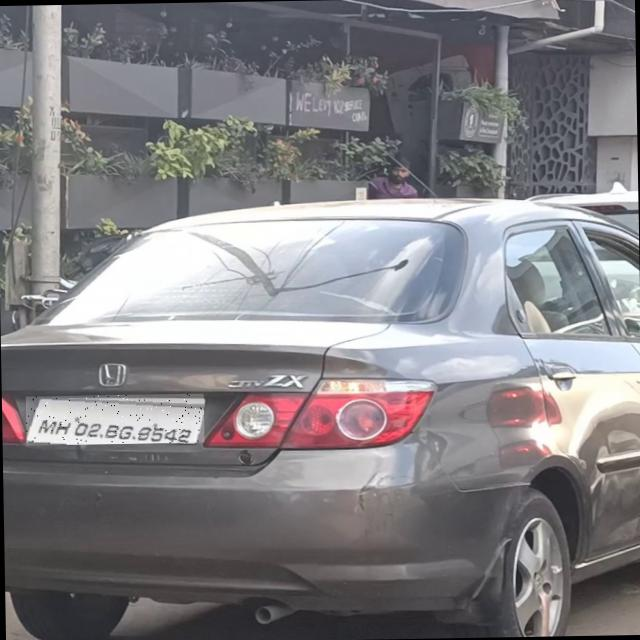Plate: (26, 394, 205, 446)
